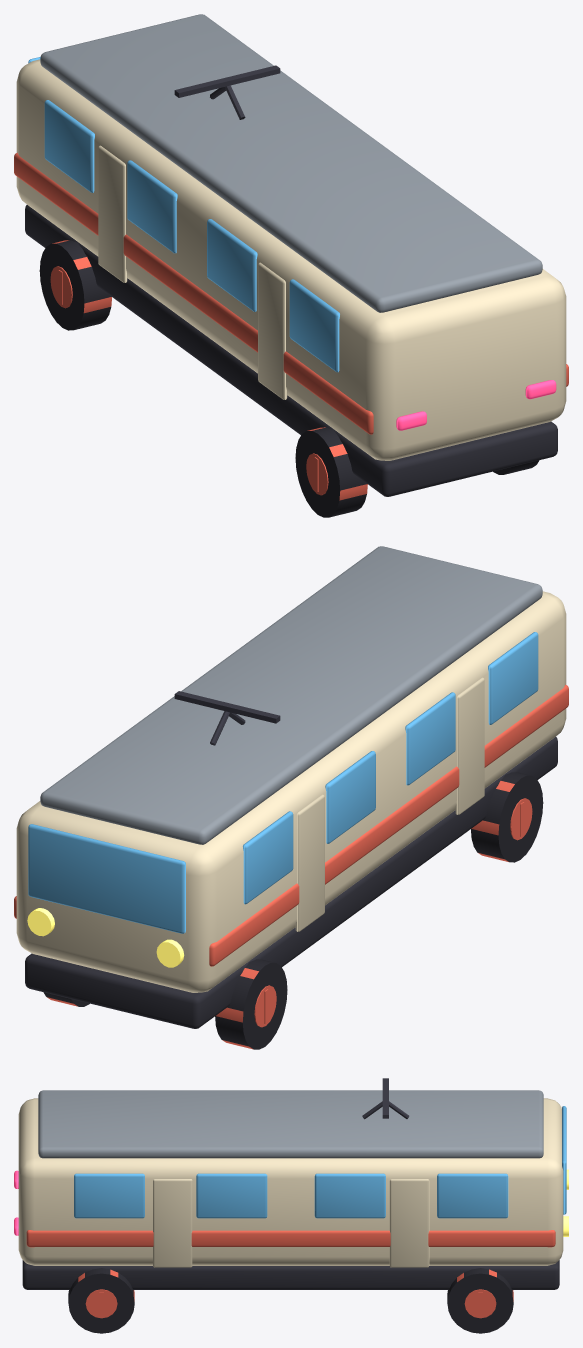
The model's file is train-commuter.glb.
3 views of the same model, one above another, from view 1: azimuth 30°, elevation 25°; view 2: azimuth 150°, elevation 25°; view 3: azimuth 270°, elevation 25° (orthographic). The views are drawn at different scales.
Parts seen in each view (by area): view 1: body, wheel_RL, wheel_FL; view 2: body, wheel_FL, wheel_RL; view 3: body, wheel_RR, wheel_FR.
Boxes of the visible parts, x1,y1,x2,y2 form: body: (14, 14, 568, 496); wheel_RL: (295, 427, 367, 517); wheel_FL: (39, 240, 111, 330); body: (14, 546, 568, 1028); wheel_FL: (215, 959, 287, 1049); wheel_RL: (471, 772, 543, 862); body: (14, 1078, 568, 1289); wheel_RR: (68, 1268, 134, 1333); wheel_FR: (447, 1268, 513, 1333).
Bounding box in the file's own units: 2.24 × 2.8 × 7.03.
